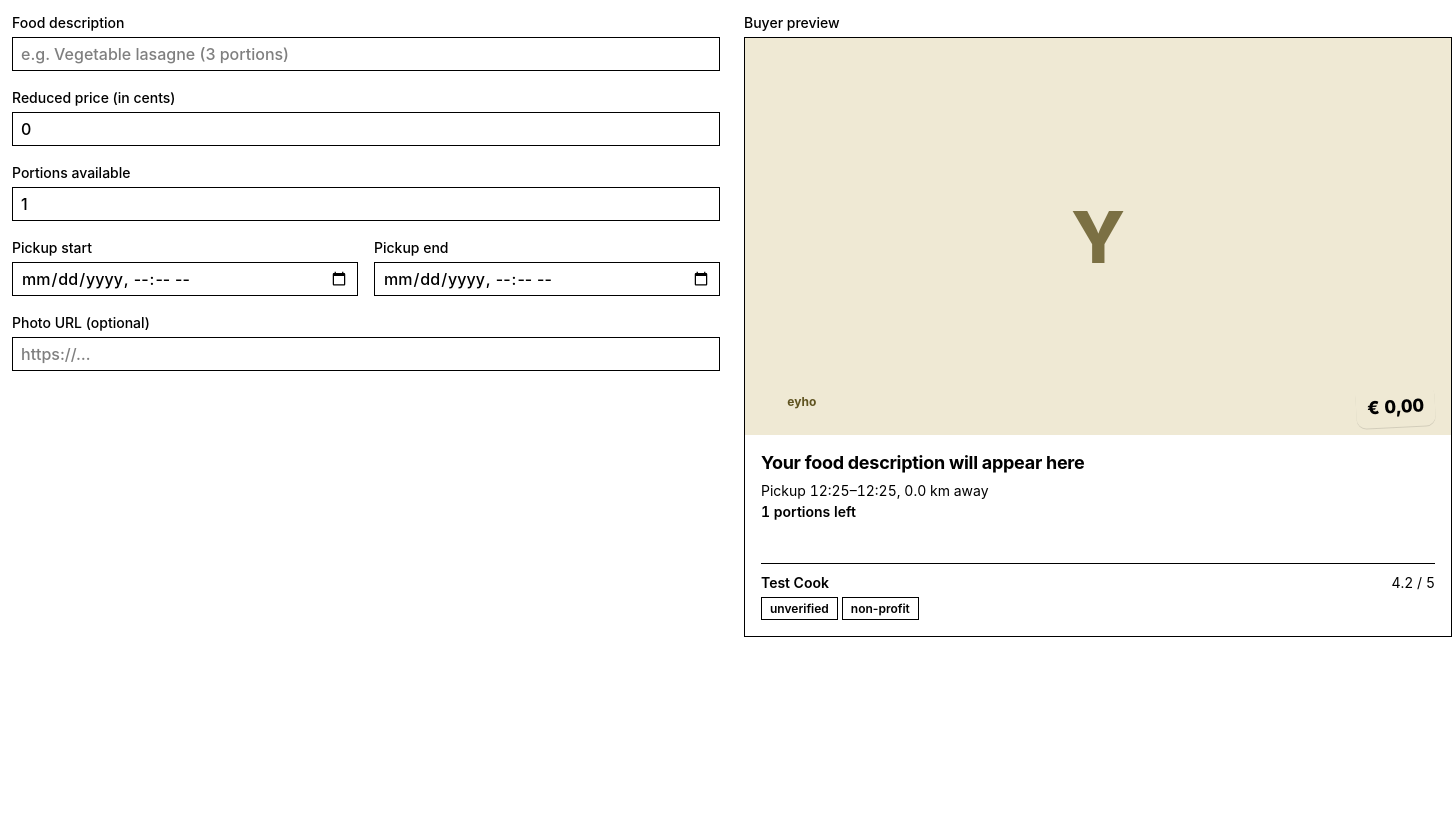
Test: ListingForm — live preview › updates the preview price as the user types
Replace the text in the number field labelled "Reduced price (in cents)" with "450": (366, 129) [12,112,720,146]
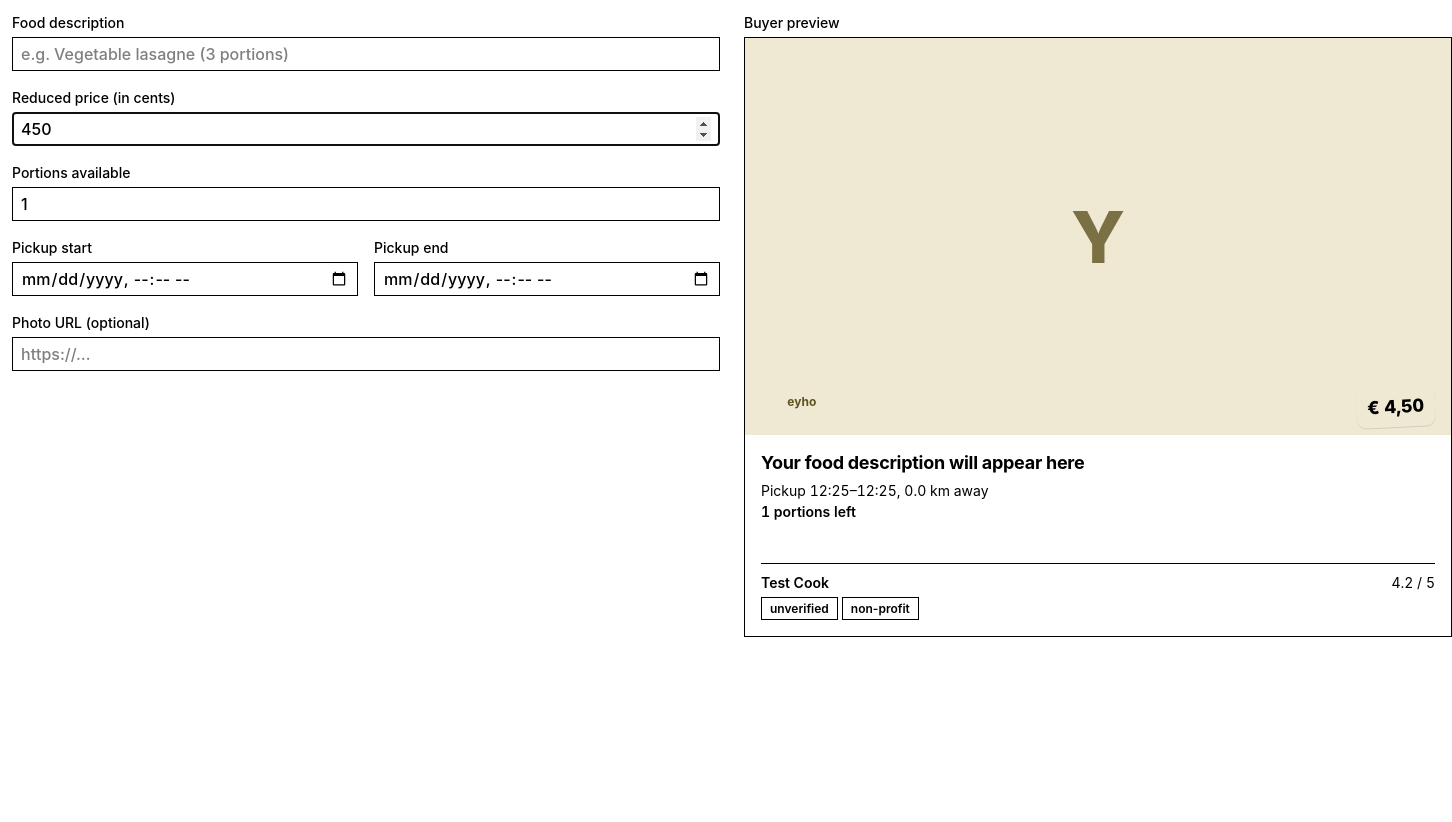
Expected: the text "€ 4,50" is shown, [1355,384,1436,429]
